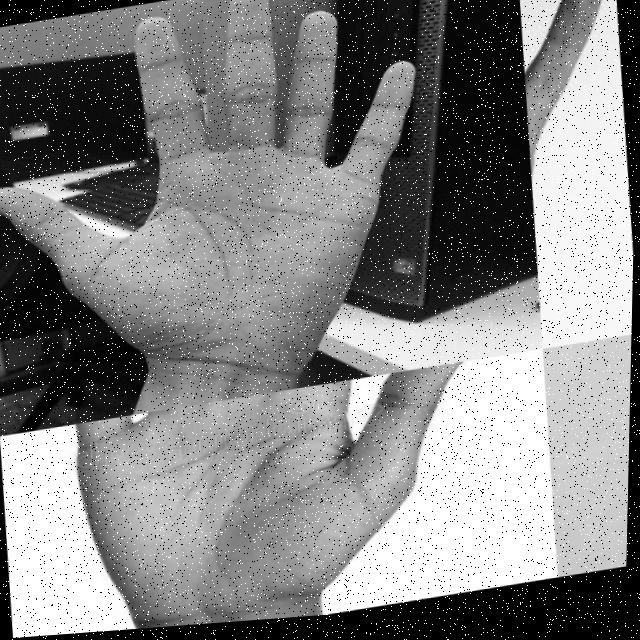hand: (52, 364, 504, 636), (508, 0, 640, 359), (542, 368, 633, 587)
